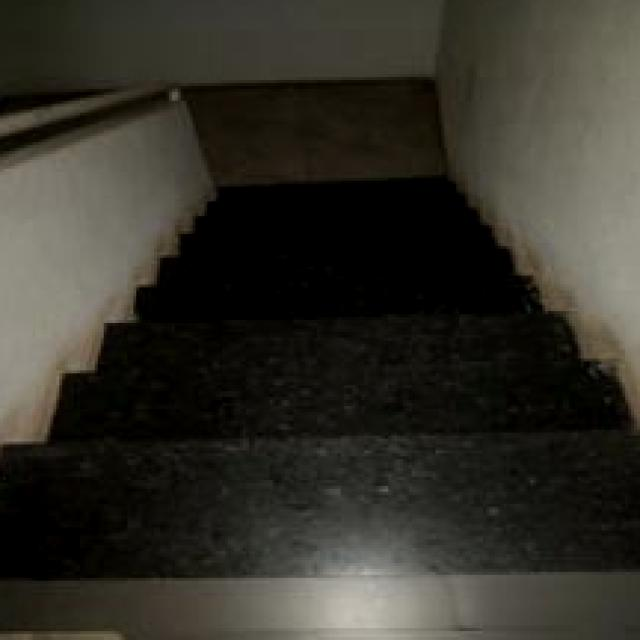downstair: (13, 271, 632, 499)
